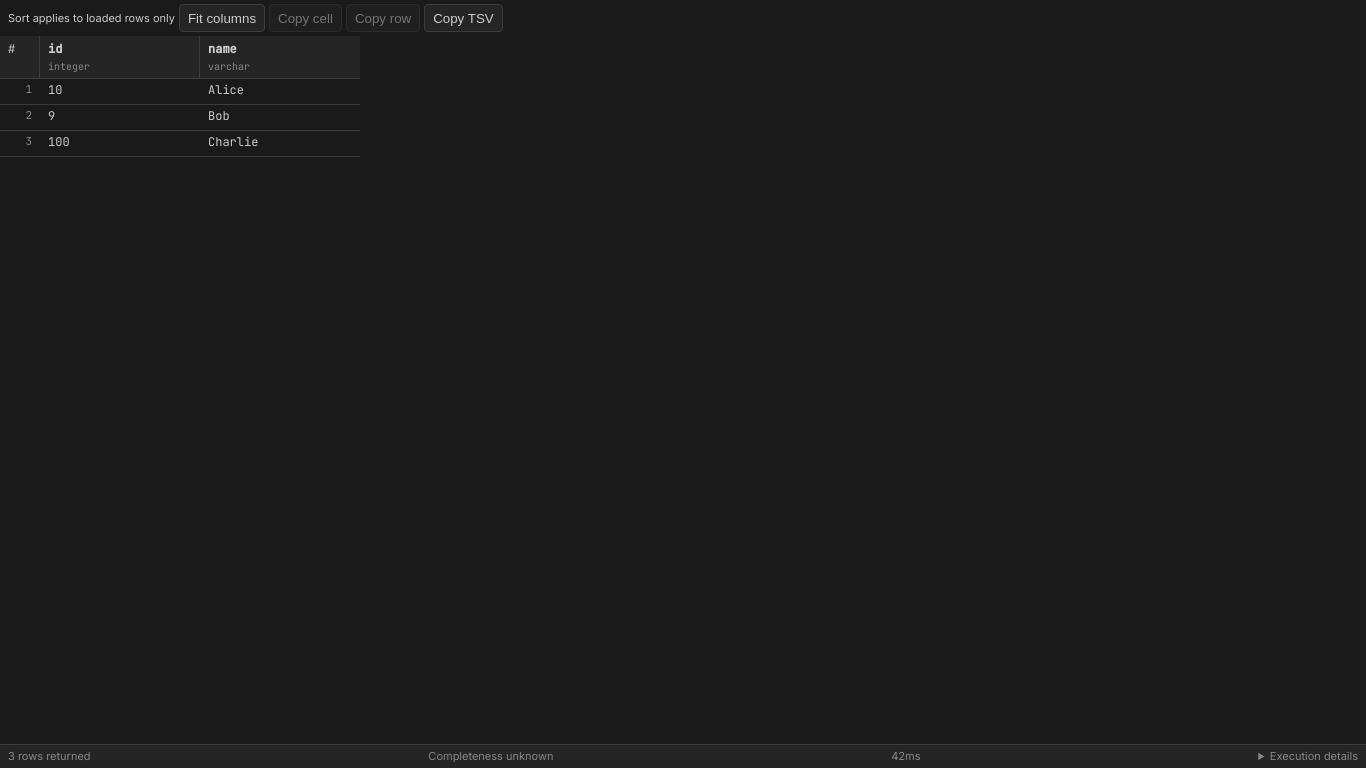
it: DataGrid › numeric columns sort by value (not string), and a new column resets to asc
This screenshot has width=1366, height=768.
What coordinates should you click on to do the following:
click the column heading "id integer"
I would click on:
 (120, 57)
Its box is [40,36,200,78].
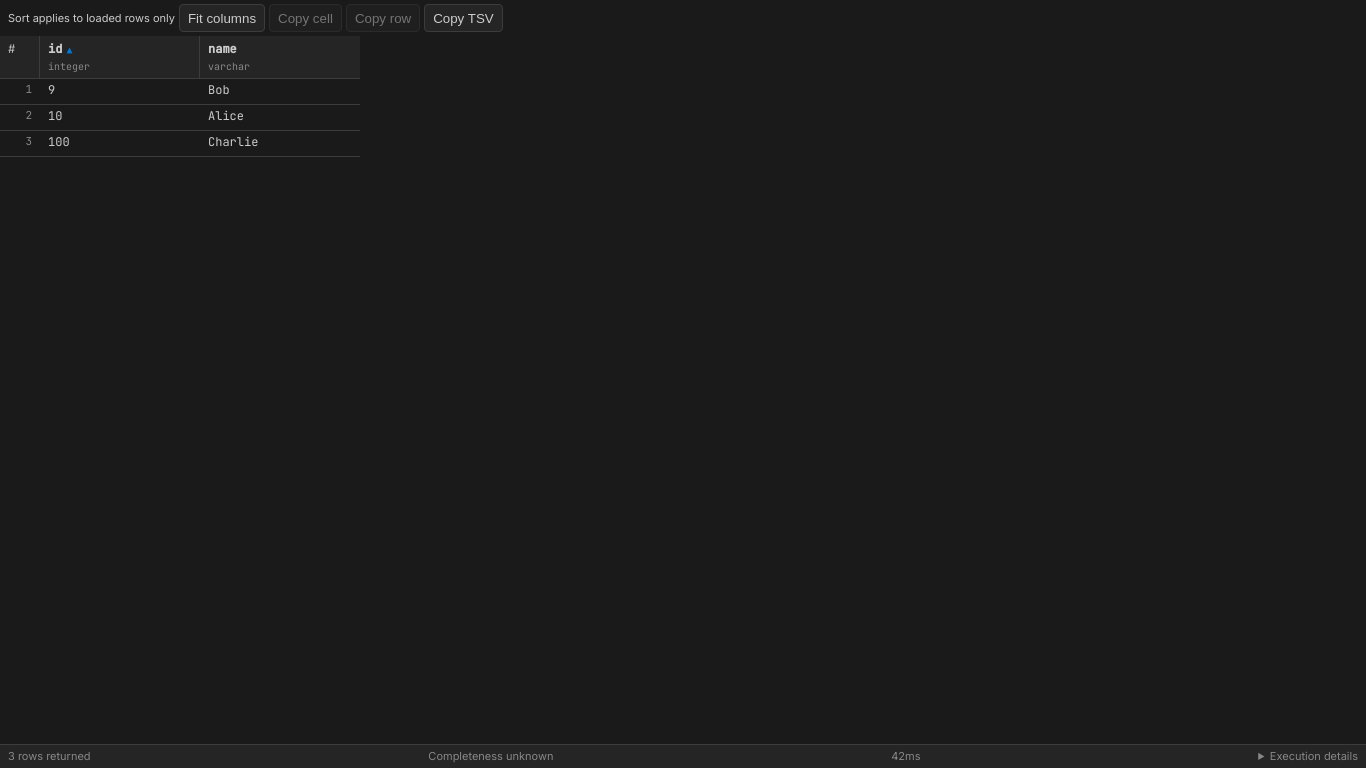
What coordinates should you click on to do the following:
click the column heading "id ▲ integer"
I would click on:
 (120, 57)
Its box is [40,36,200,78].
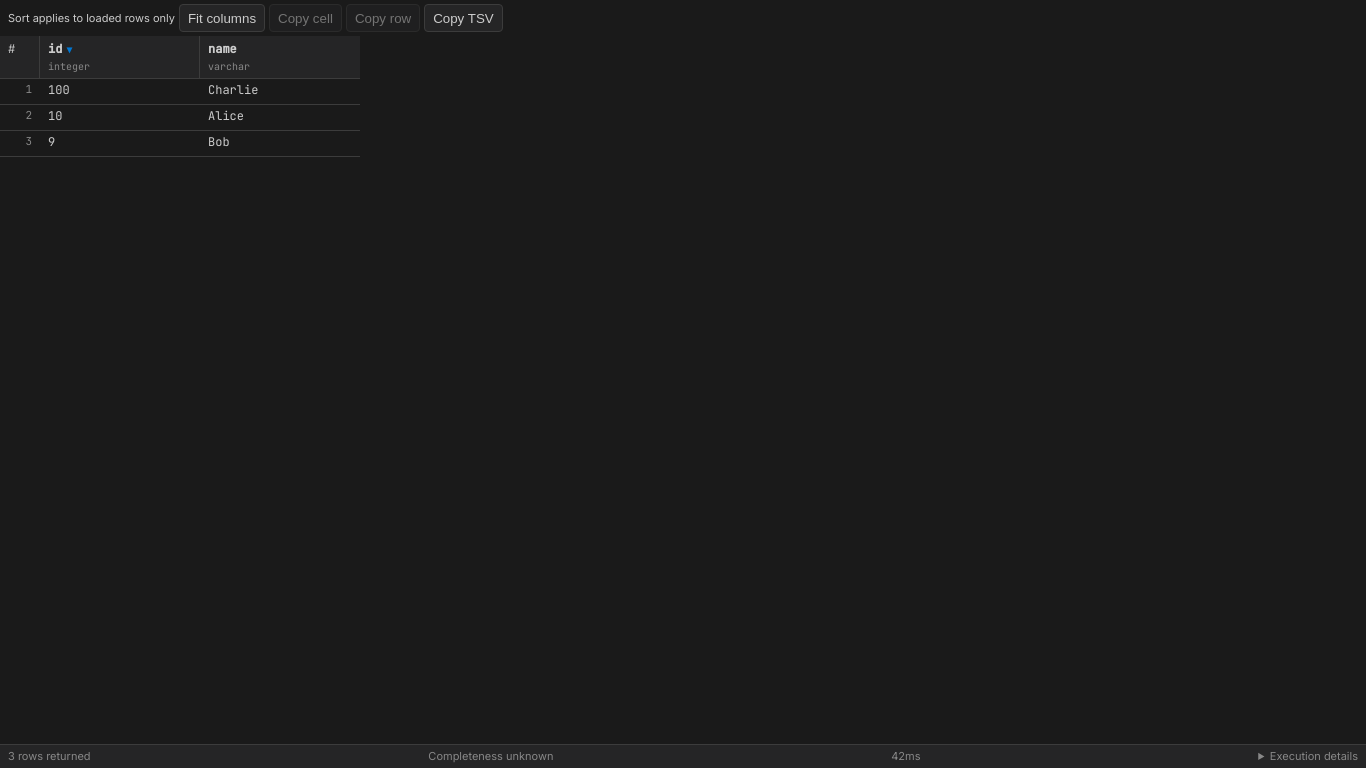
// switch column mid-desc → resets that new column to asc (not inherited desc)
What coordinates should you click on to do the following:
click the column heading "name varchar"
I would click on:
 (229, 57)
Its box is [208,41,250,73].
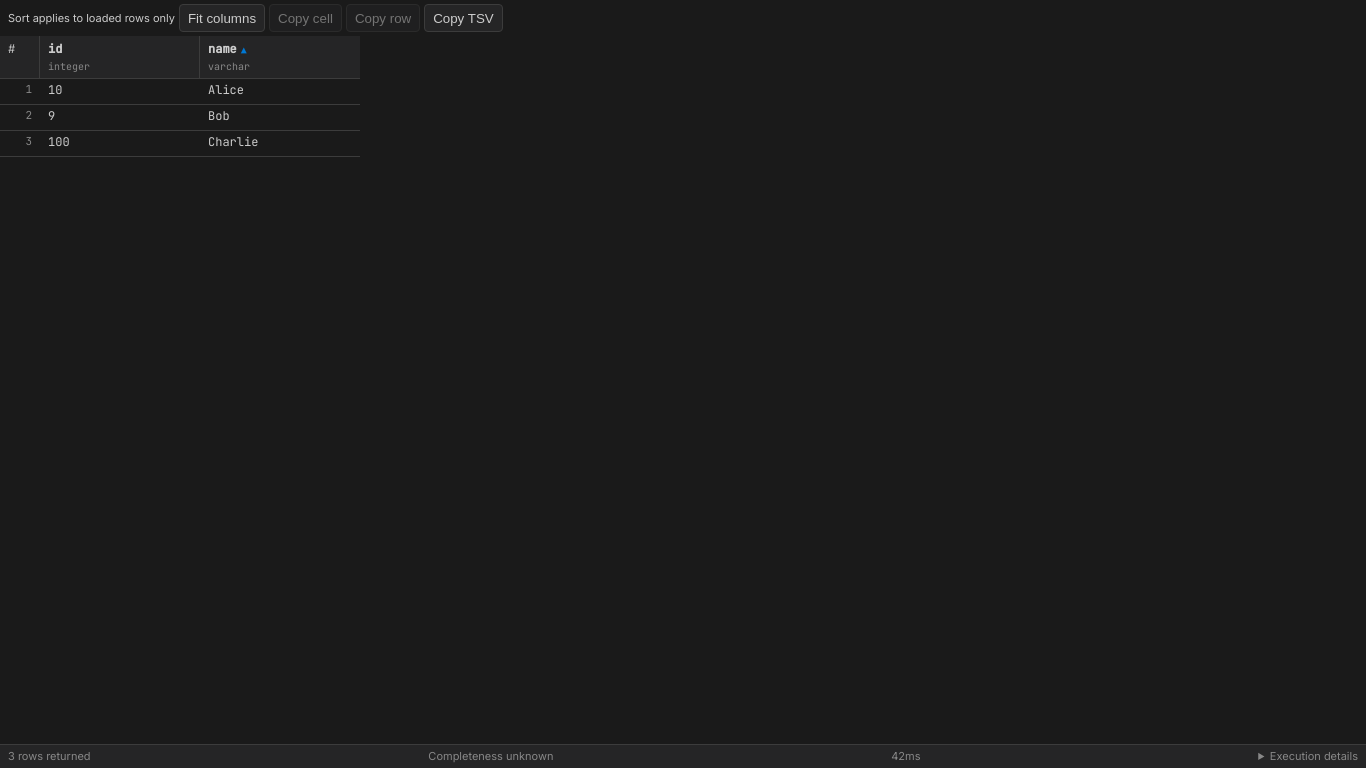
Result: the text "▲" is shown at [241,42,247,56]
